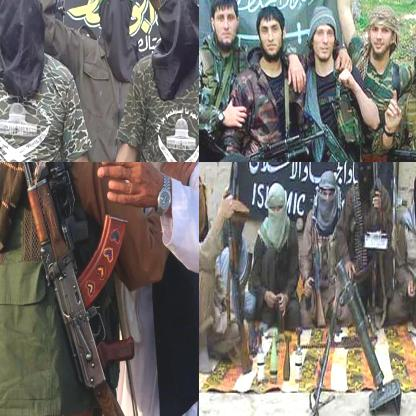rifle: (0, 162, 137, 415), (221, 191, 258, 374), (308, 114, 392, 161), (237, 124, 332, 161), (311, 210, 332, 326)
